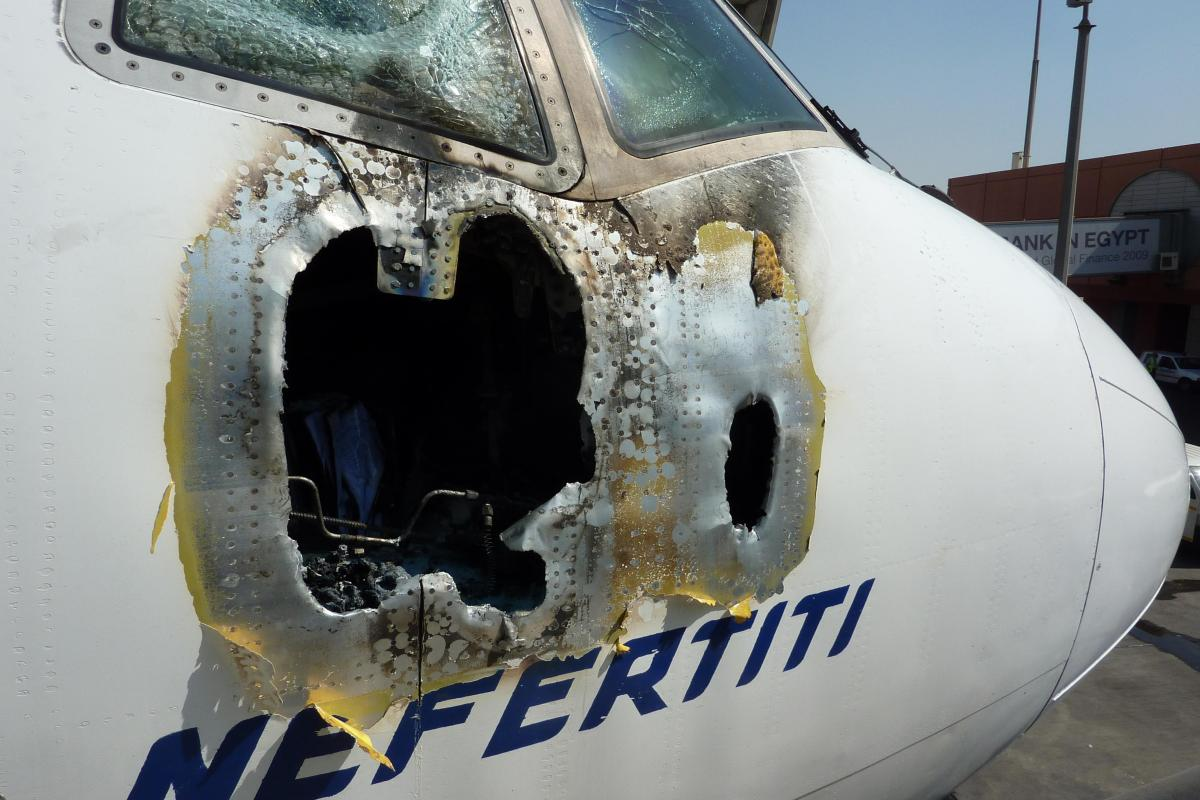Fuselage_damage: (155, 129, 836, 774), (271, 201, 607, 625), (120, 0, 553, 171), (574, 0, 816, 146), (601, 233, 805, 386), (608, 409, 717, 582), (719, 382, 794, 541)
